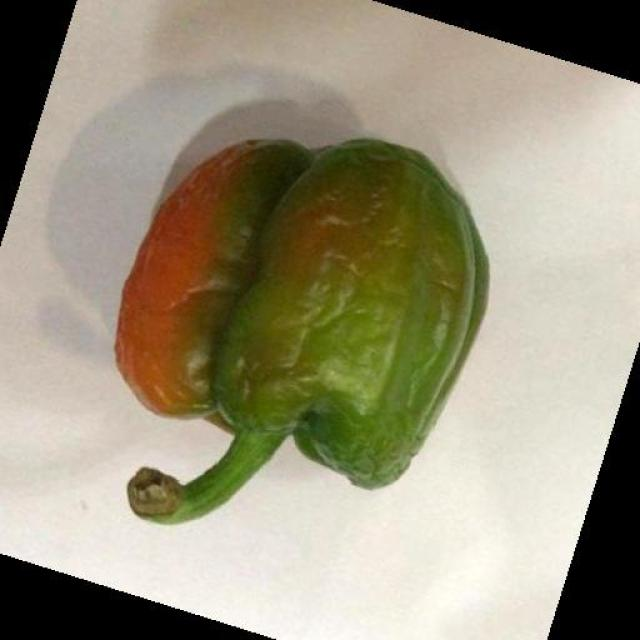Stale_Capsicum: (104, 120, 491, 560)
